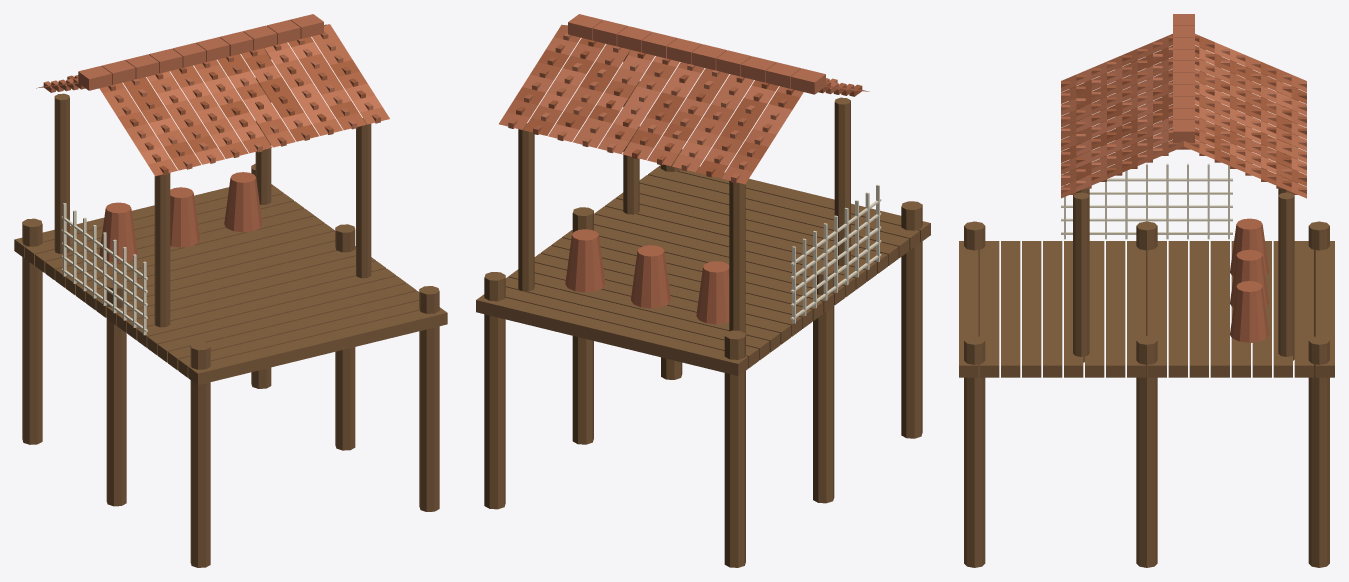
3 views of the same model, side by side, from view 1: azimuth 30°, elevation 25°; view 2: azimuth 150°, elevation 25°; view 3: azimuth 270°, elevation 25° (orthographic). The views are drawn at different scales.
Parts seen in each view (by area): view 1: Bergfried – Steine, Säulen, Ziegel und Feuerstelle; view 2: Bergfried – Steine, Säulen, Ziegel und Feuerstelle; view 3: Bergfried – Steine, Säulen, Ziegel und Feuerstelle.
Boxes of the visible parts, x1,y1,x2,y2 form: Bergfried – Steine, Säulen, Ziegel und Feuerstelle: (14,14,447,567); Bergfried – Steine, Säulen, Ziegel und Feuerstelle: (476,14,930,567); Bergfried – Steine, Säulen, Ziegel und Feuerstelle: (959,14,1334,567).
Bounding box in the file's own units: 366 × 575 × 458.
